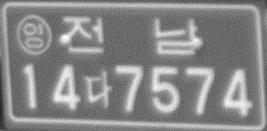1: (14, 63, 46, 109)
4: (222, 70, 253, 117), (50, 64, 81, 110)
5: (151, 65, 180, 114)
7: (184, 66, 215, 116), (113, 64, 144, 113)
다: (84, 69, 112, 108)
영: (14, 13, 52, 56)
전남_D: (60, 15, 199, 56)
